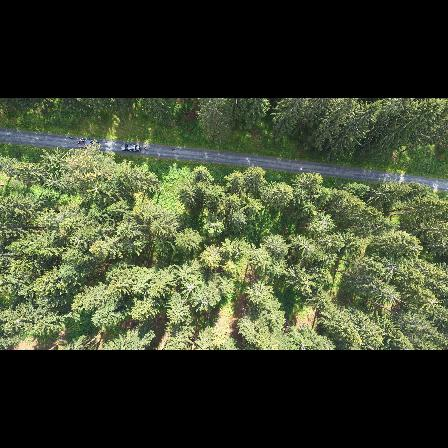Sick: (382, 257, 401, 278), (408, 240, 426, 259), (423, 294, 440, 313)
